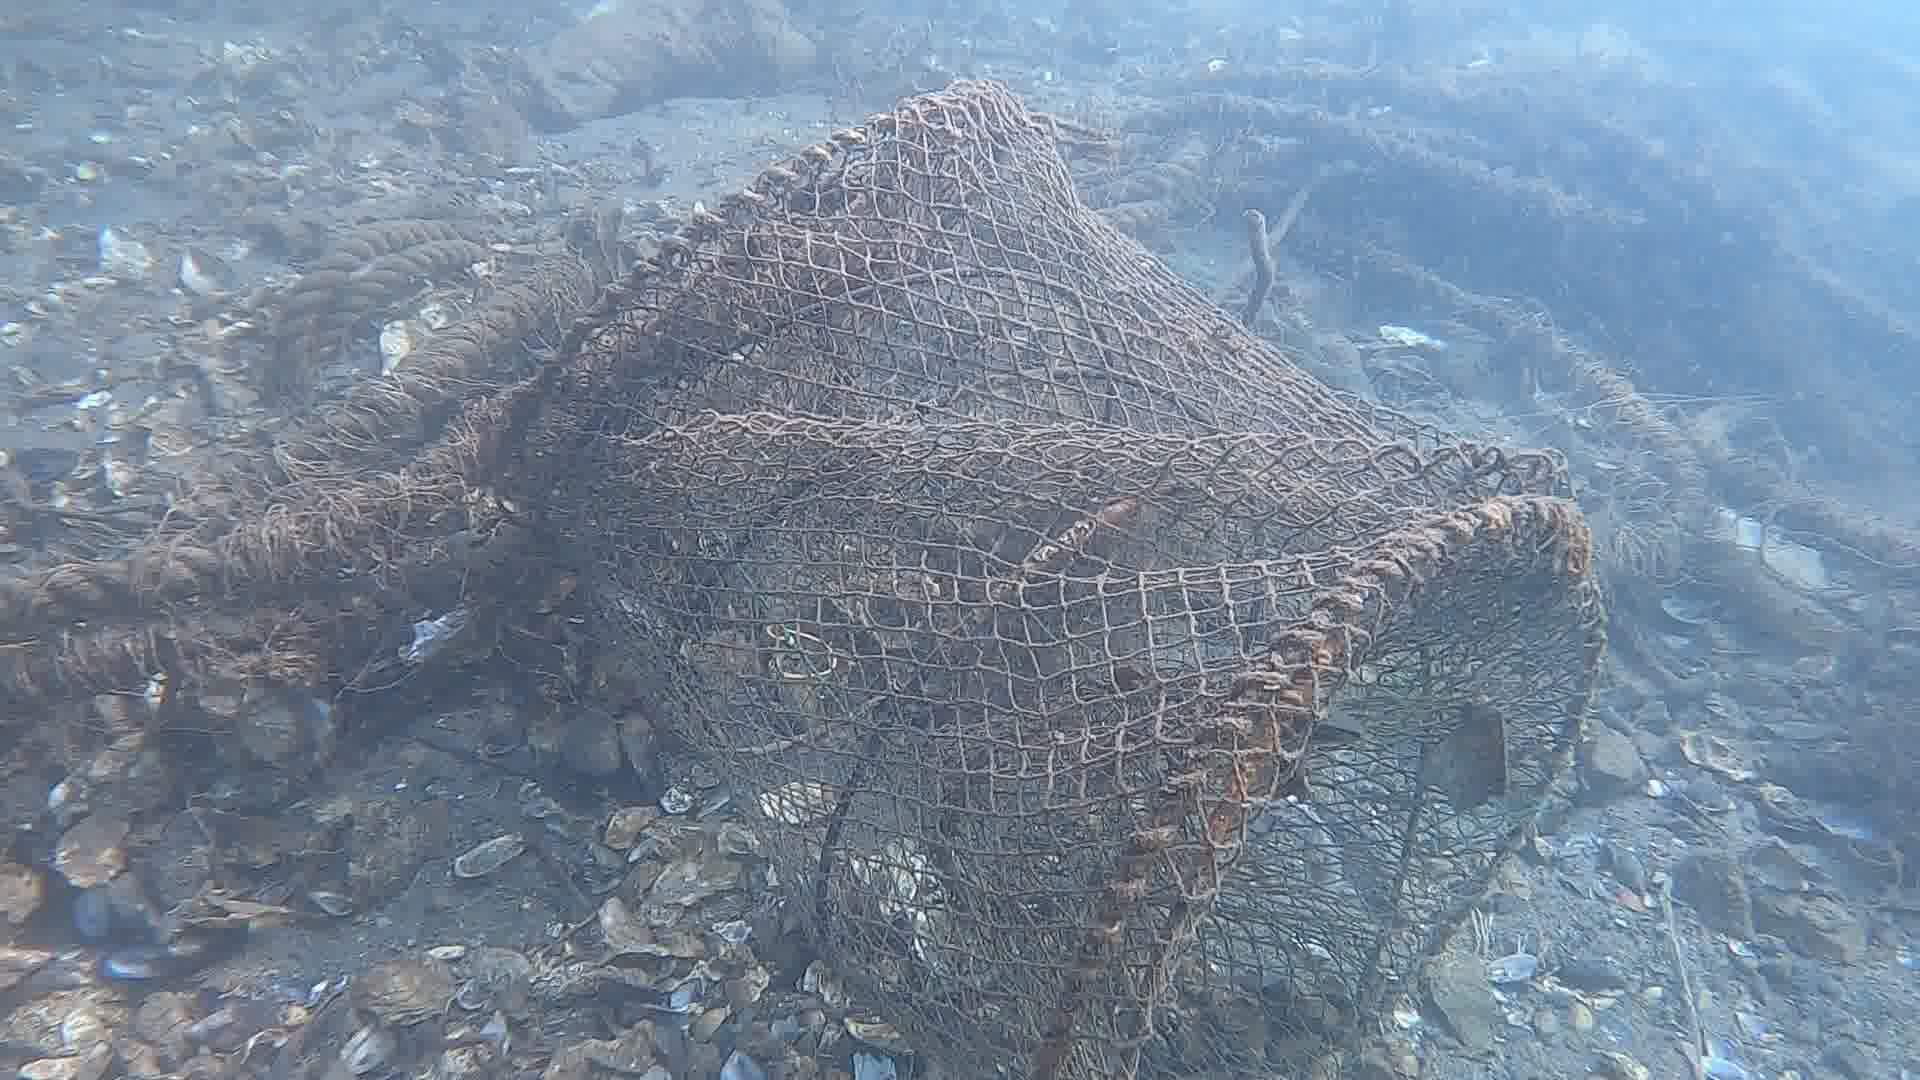bundle of ropes: (270, 214, 483, 380), (1083, 140, 1203, 229)
rope: (0, 538, 229, 624)
spring fish trap: (487, 76, 1607, 1080)
